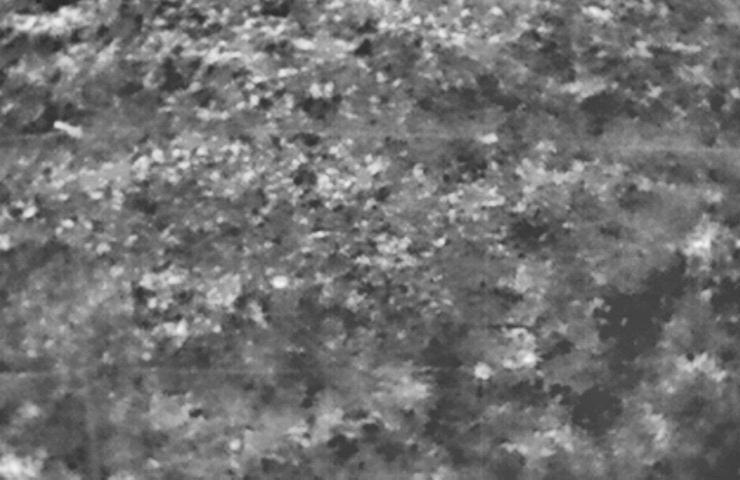landmines: (270, 272, 294, 292)
